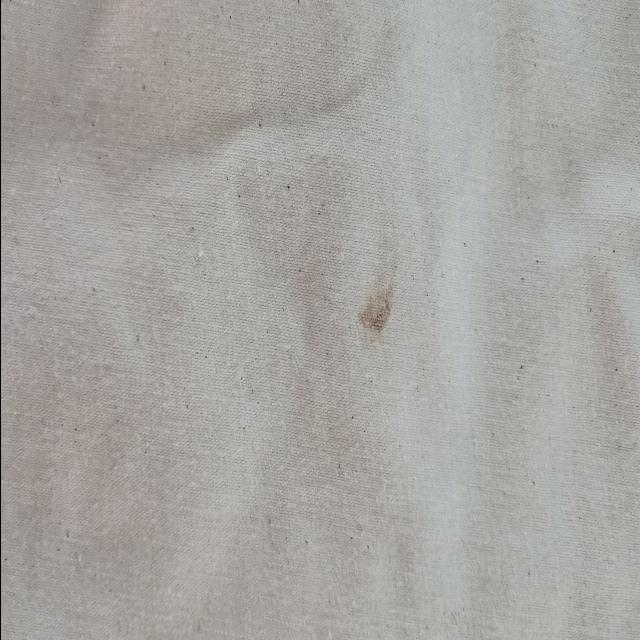taaaches: (354, 258, 404, 364)
